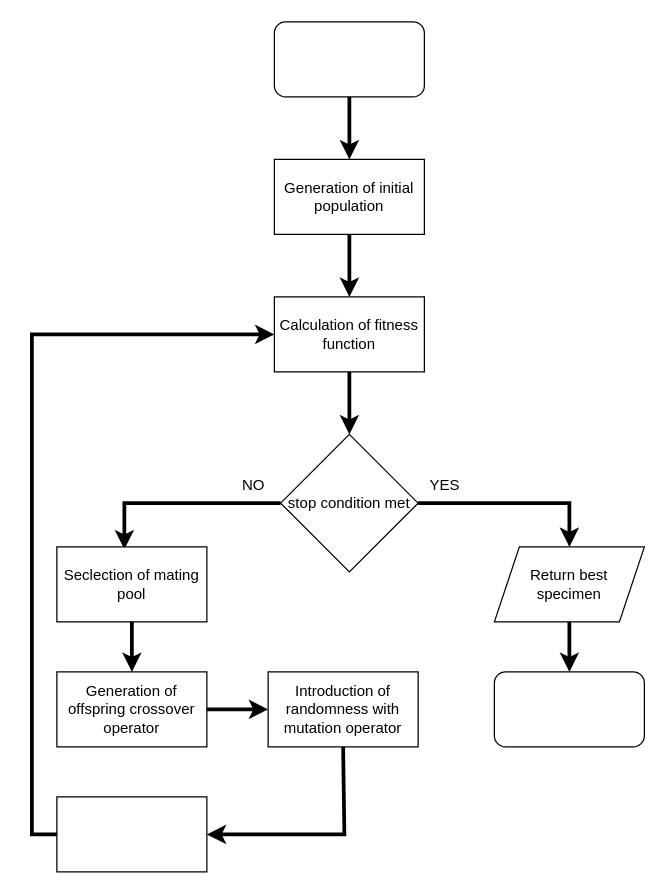
Image size: 666x894. Some labels were removed from this diagram. Here are the shapes that lost their labels. From the top down, the centre of each, then its label:
the point at 348,59: START
the point at 568,709: STOP
the point at 131,834: Generation of new population
